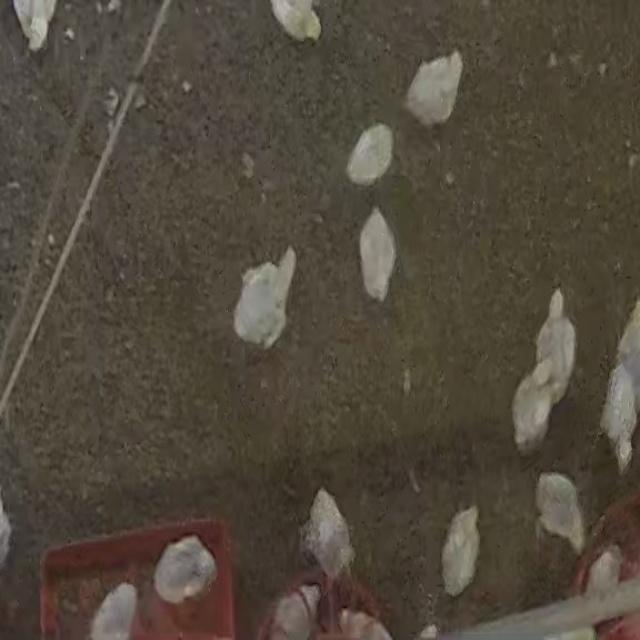chicken: (345, 222, 436, 326), (586, 373, 640, 486), (507, 476, 584, 555), (305, 485, 362, 589), (538, 290, 590, 403), (152, 529, 218, 607), (338, 121, 404, 198), (230, 240, 280, 338), (436, 509, 489, 599), (273, 0, 339, 71), (85, 571, 152, 640), (506, 366, 554, 452), (0, 0, 67, 59), (414, 60, 468, 130), (594, 285, 640, 367), (268, 584, 327, 640), (331, 596, 398, 640), (0, 491, 36, 558)
